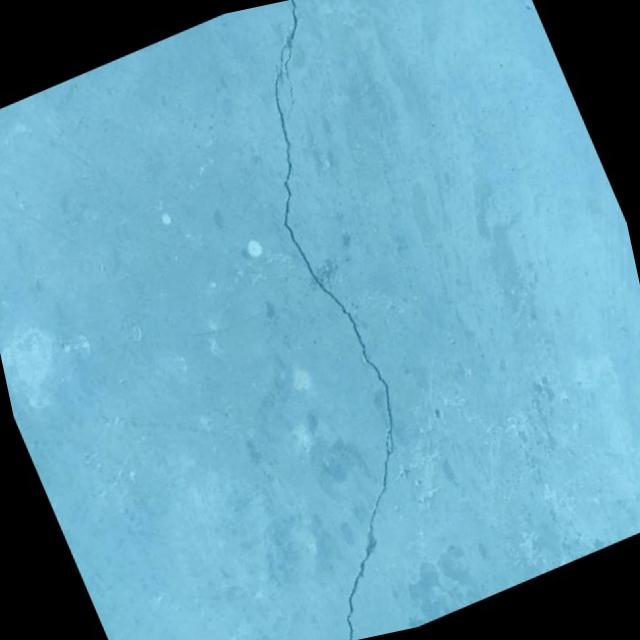crack: (91, 0, 546, 640)
